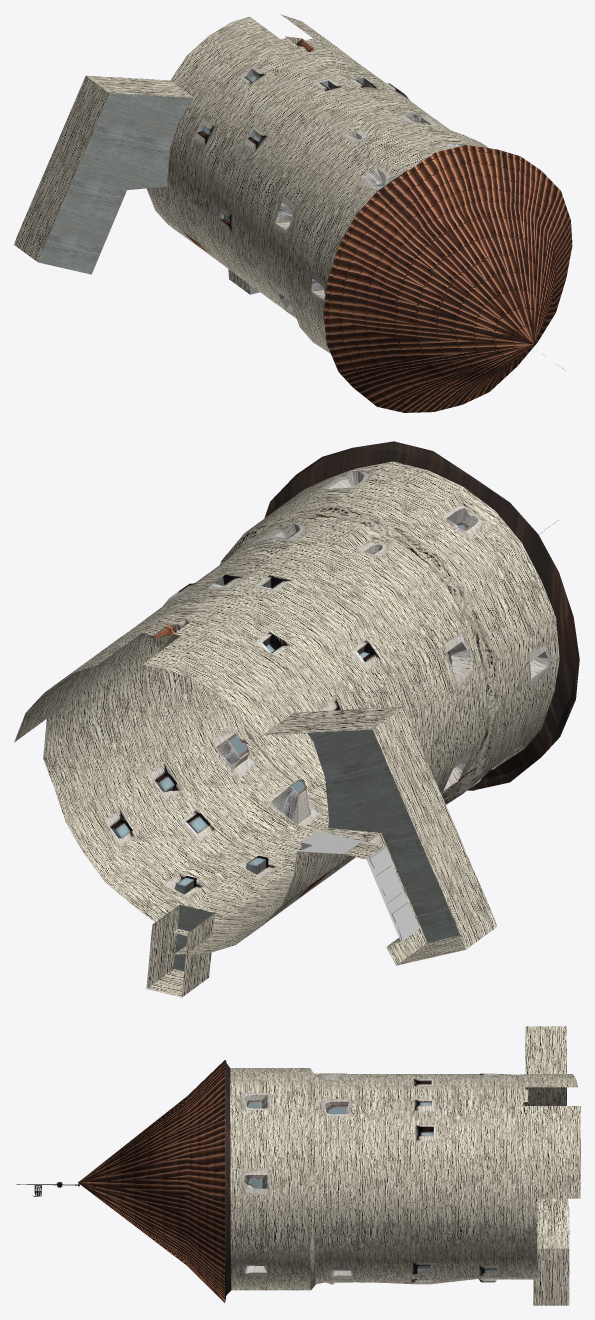
The model's file is Komandandi_2-origo.obj.
The picture shows the model from 3 angles, top to bottom: view 1: azimuth 30°, elevation 25°; view 2: azimuth 150°, elevation 25°; view 3: azimuth 270°, elevation 25°; orthographic projection. The views are drawn at different scales.
Parts seen in each view (by area): view 1: Komandandi_2; view 2: Komandandi_2; view 3: Komandandi_2.
Boxes of the visible parts, x1,y1,x2,y2 form: Komandandi_2: (14,14,572,412); Komandandi_2: (14,441,579,997); Komandandi_2: (16,1026,580,1305).
Bounding box in the file's own units: 29.81 × 21.5 × 47.19.
